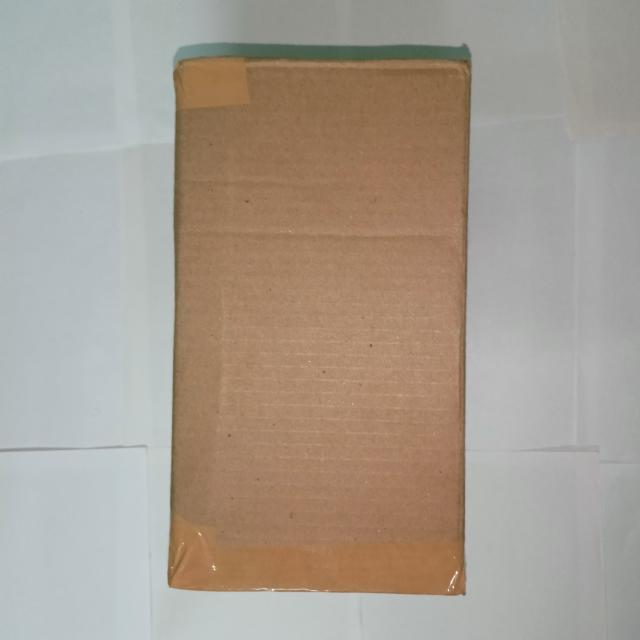box: (176, 66, 466, 594)
